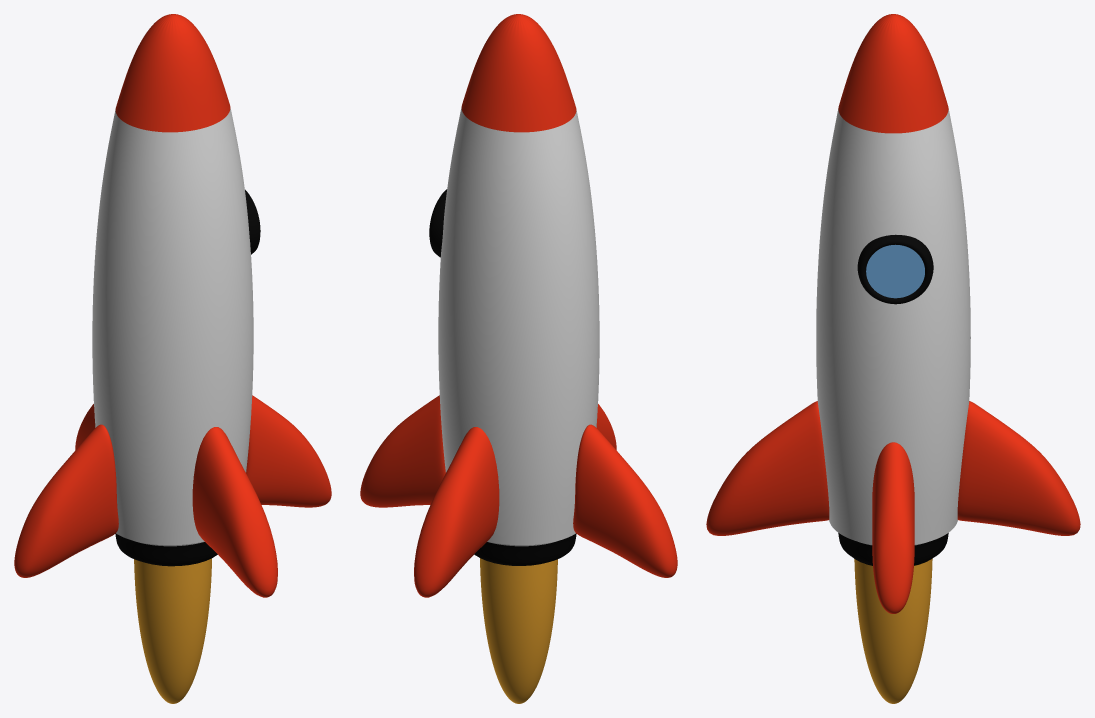
Rendered from rocket.glb.
The picture shows the model from 3 angles, left to right: view 1: azimuth 30°, elevation 25°; view 2: azimuth 150°, elevation 25°; view 3: azimuth 270°, elevation 25°; orthographic projection.
Parts seen in each view (by area): view 1: Sphere, Cube.002, Torus; view 2: Sphere, Cube.002, Torus; view 3: Sphere, Cube.002, Cylinder, Torus.
Part boxes in pixels (x1,y1,x2,y2): Sphere: (92, 107, 253, 703); Cube.002: (14, 14, 331, 597); Torus: (245, 189, 260, 254); Sphere: (438, 107, 599, 703); Cube.002: (360, 14, 677, 597); Torus: (429, 189, 446, 257); Sphere: (816, 109, 970, 703); Cube.002: (706, 14, 1080, 613); Cylinder: (866, 244, 924, 298); Torus: (857, 234, 933, 304).
Size of the model in its own units: 8.26 by 17.38 by 8.56.
